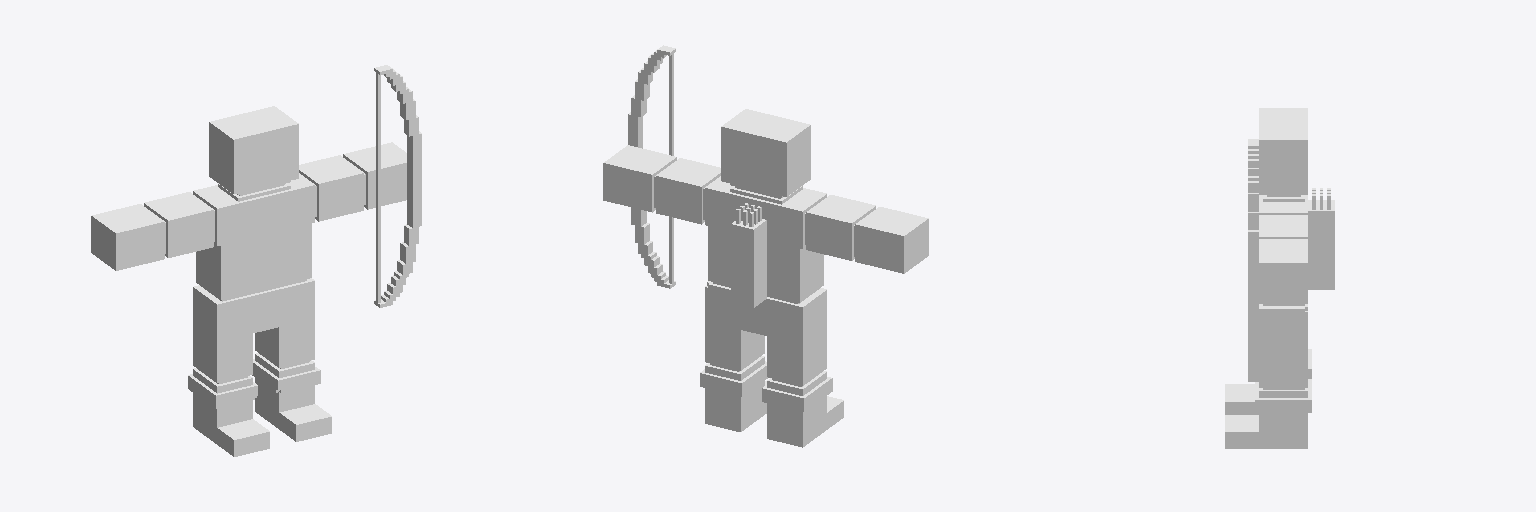
File: Archer.obj
3 views of the same model, side by side, from view 1: azimuth 30°, elevation 25°; view 2: azimuth 150°, elevation 25°; view 3: azimuth 270°, elevation 25° (orthographic).
Size of the model in its own units: 92 by 99 by 29.